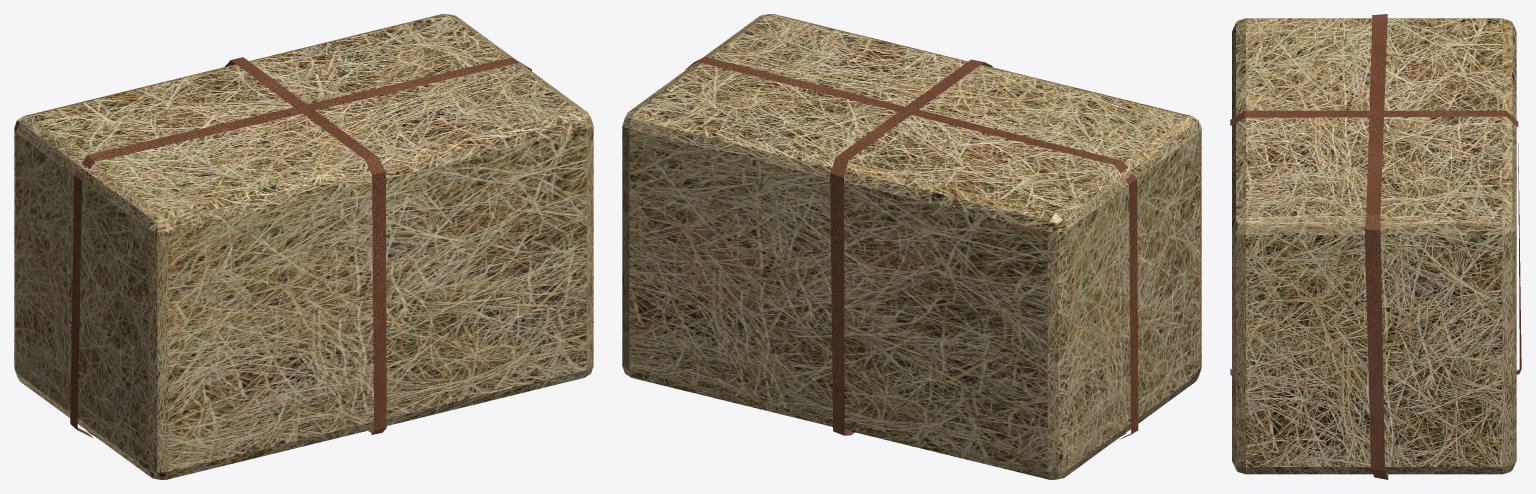
Rendered from hay bale.glb.
3 views of the same model, side by side, from view 1: azimuth 30°, elevation 25°; view 2: azimuth 150°, elevation 25°; view 3: azimuth 270°, elevation 25° (orthographic). The views are drawn at different scales.
Visible parts, largest first — view 1: Cube, Plane.001, Plane; view 2: Cube, Plane, Plane.001; view 3: Cube, Plane.001, Plane.
Part boxes in pixels (left/top/right/bottom): Cube: left=14, top=14, right=593, bottom=479; Plane.001: left=70, top=57, right=531, bottom=437; Plane: left=224, top=57, right=386, bottom=434; Cube: left=622, top=14, right=1201, bottom=479; Plane: left=830, top=59, right=992, bottom=435; Plane.001: left=685, top=57, right=1138, bottom=439; Cube: left=1232, top=18, right=1516, bottom=474; Plane.001: left=1364, top=14, right=1388, bottom=479; Plane: left=1230, top=110, right=1521, bottom=375.
Bounding box in the file's own units: 3.54 × 2.08 × 2.05.
2 materials, 2 textured.
